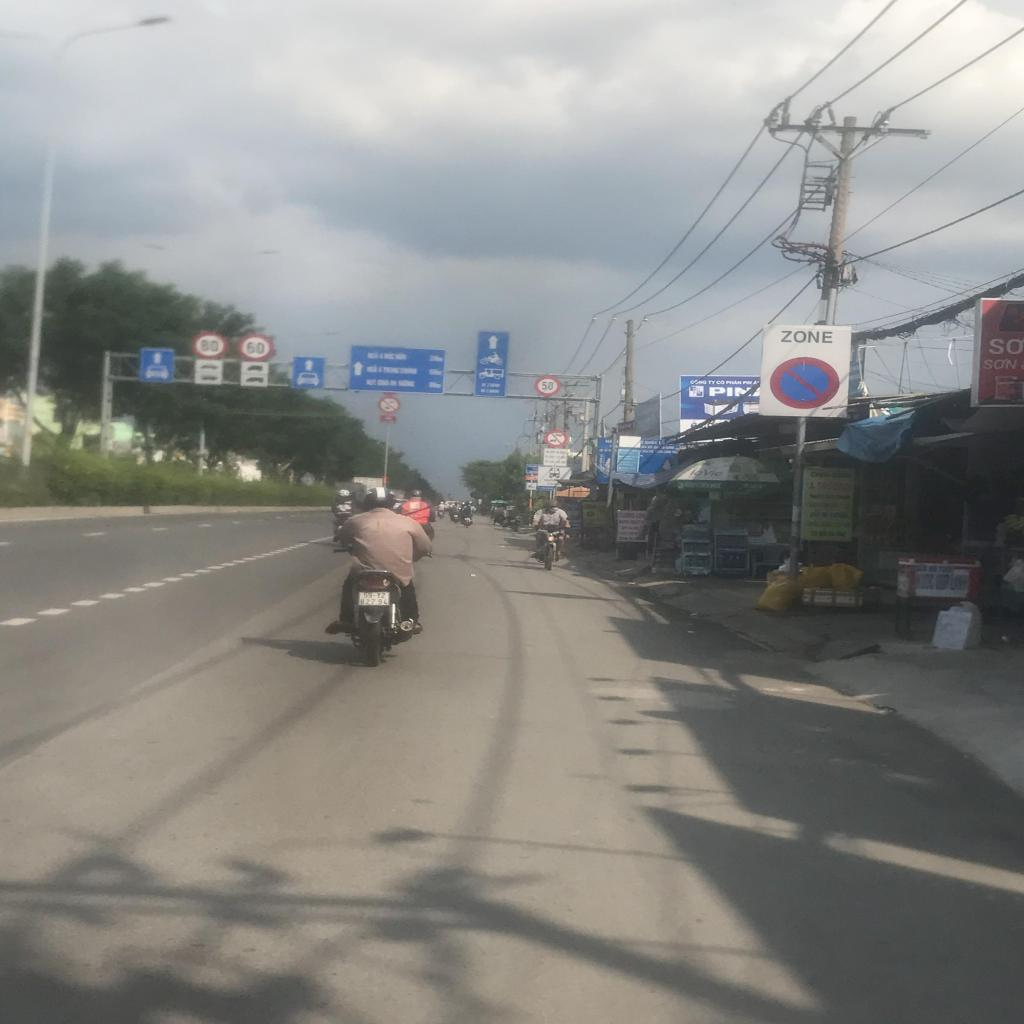cam_o_to_tai_va_xe_khach: (545, 429, 568, 447)
cam_xe_2_banh_va_xe_3_banh_co_dong_co: (377, 396, 401, 414)
duong_cho_xe_o_to: (140, 349, 173, 382), (293, 356, 324, 388)
khac: (350, 346, 446, 394), (475, 330, 508, 396), (537, 466, 571, 488), (543, 450, 567, 466), (242, 374, 268, 387), (195, 360, 223, 372), (194, 372, 222, 384), (242, 362, 268, 373)
toc_do_toi_da_50: (533, 375, 562, 396)
toc_do_toi_da_60: (236, 333, 274, 361)
toc_do_toi_da_80: (191, 332, 229, 359)
